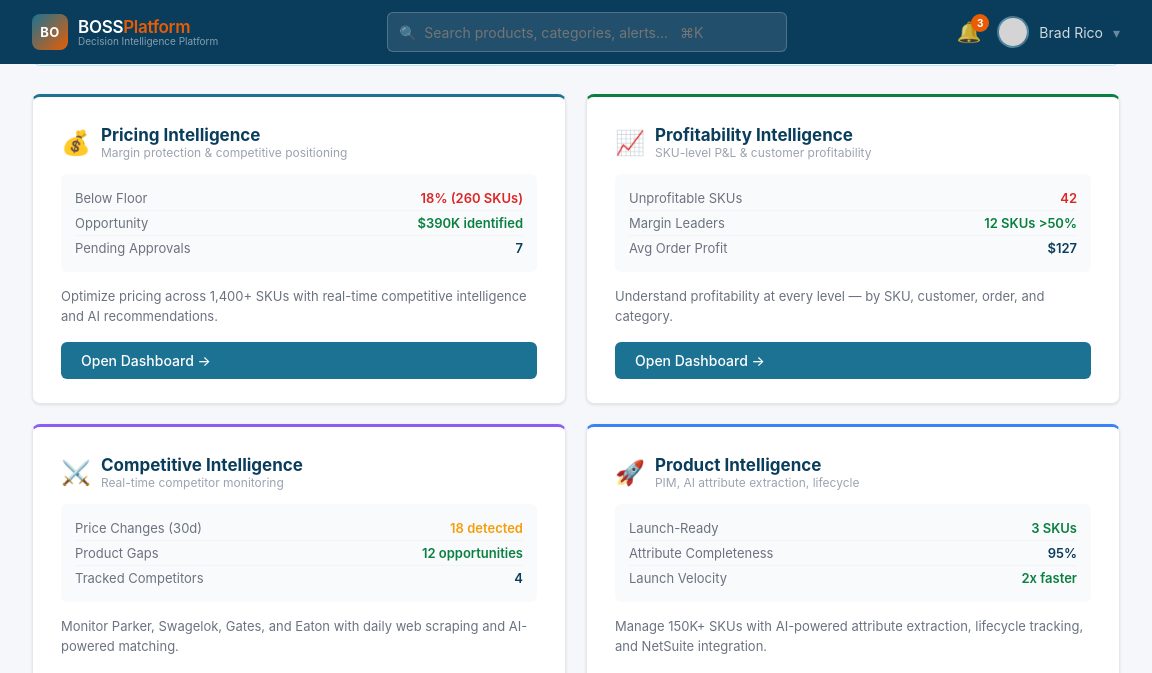
Test: Price Simulation (from Home) › shows margin floor alert
(page scrolled)
Click the button "Open Dashboard →" below "Pending Approvals". click: (146,361)
box: [61,342,537,379]
(page scrolled)
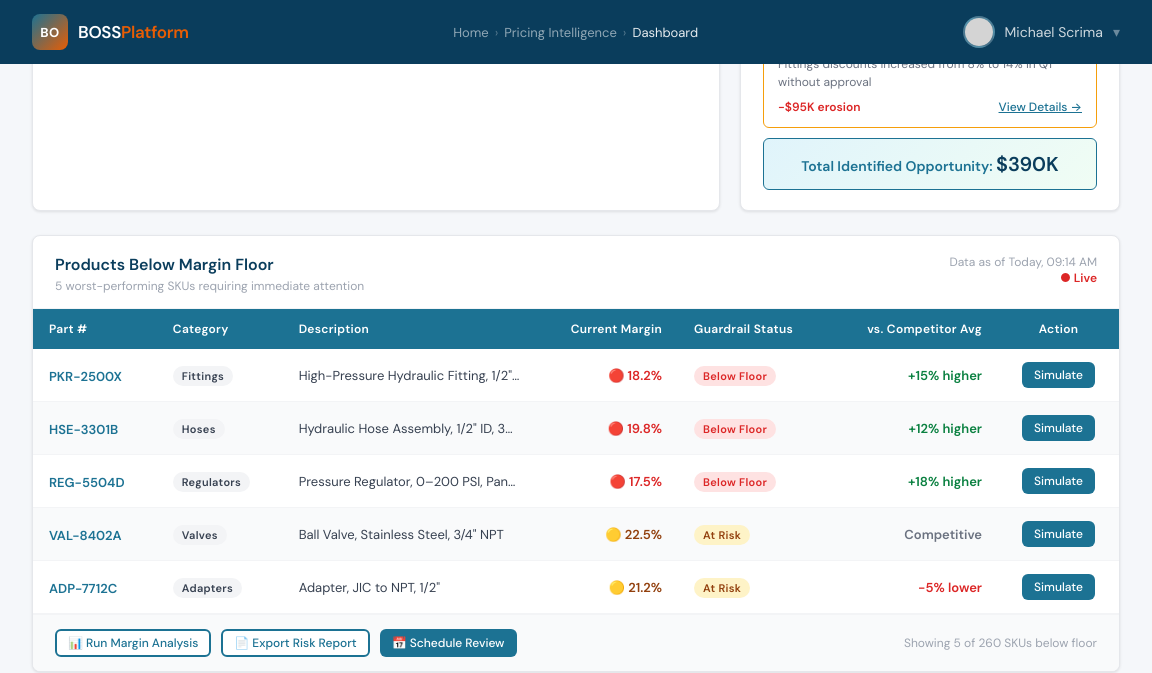
Click the text "PKR-2500X". click: (86,376)
box: [49,368,122,385]
(page scrolled)
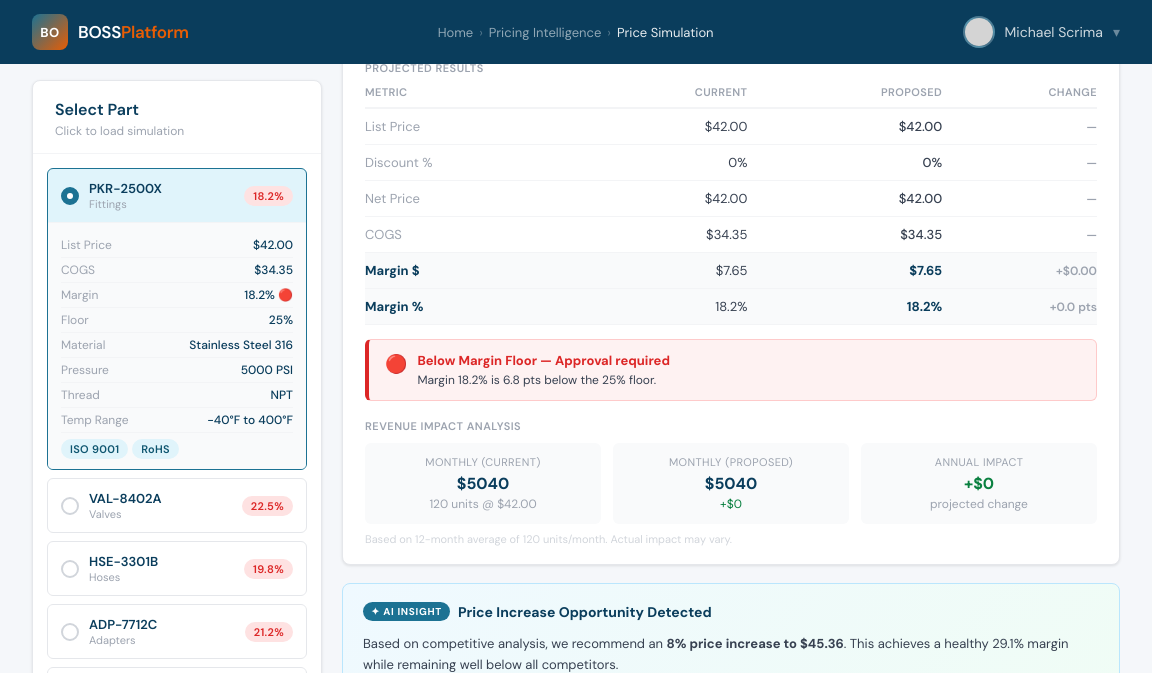
expect the text "Below Margin Floor — Approval required" is shown: met, box [418,352,670,369]
